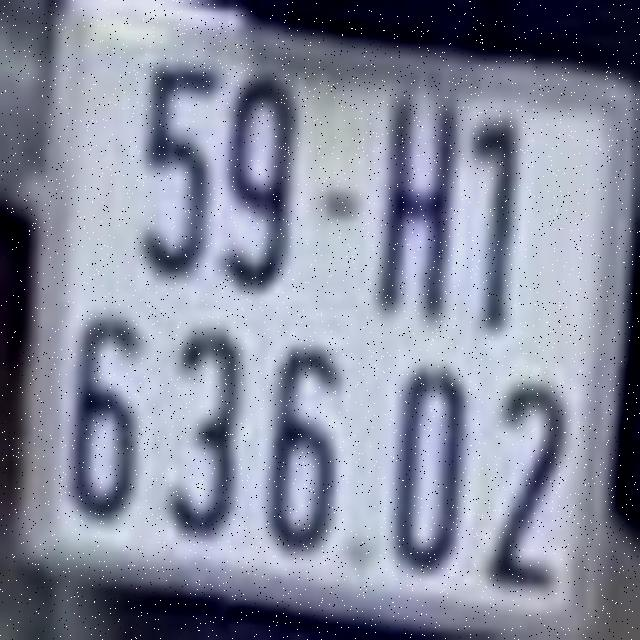0: (392, 365, 464, 572)
1: (470, 111, 520, 331)
2: (490, 379, 566, 591)
3: (170, 326, 240, 538)
5: (141, 62, 215, 278)
6: (72, 312, 142, 520), (272, 343, 340, 552)
9: (224, 75, 294, 291)
H: (381, 90, 456, 321)
